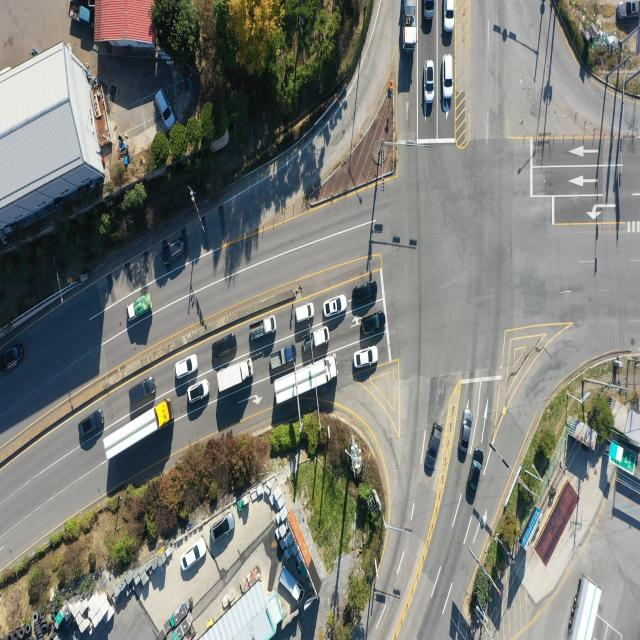car: (179, 538, 208, 579), (424, 422, 442, 477), (128, 376, 156, 407), (77, 410, 103, 440), (465, 458, 481, 504), (156, 89, 174, 129), (161, 234, 185, 264), (0, 344, 23, 374), (459, 410, 472, 460), (212, 517, 235, 545), (360, 314, 385, 338), (212, 336, 236, 360), (175, 353, 198, 378), (353, 346, 378, 369), (186, 380, 209, 404), (353, 281, 378, 303), (322, 297, 346, 318), (443, 54, 454, 99), (617, 0, 640, 19), (425, 62, 435, 105), (293, 304, 313, 324), (444, 0, 454, 31), (423, 0, 436, 23)
medium_truck: (103, 398, 171, 462), (271, 352, 338, 405), (566, 578, 602, 640), (217, 358, 254, 393), (405, 0, 420, 48)
small_truck: (278, 566, 304, 604), (127, 294, 152, 322), (252, 318, 278, 343), (306, 328, 330, 352), (69, 1, 93, 24), (269, 348, 296, 368)
